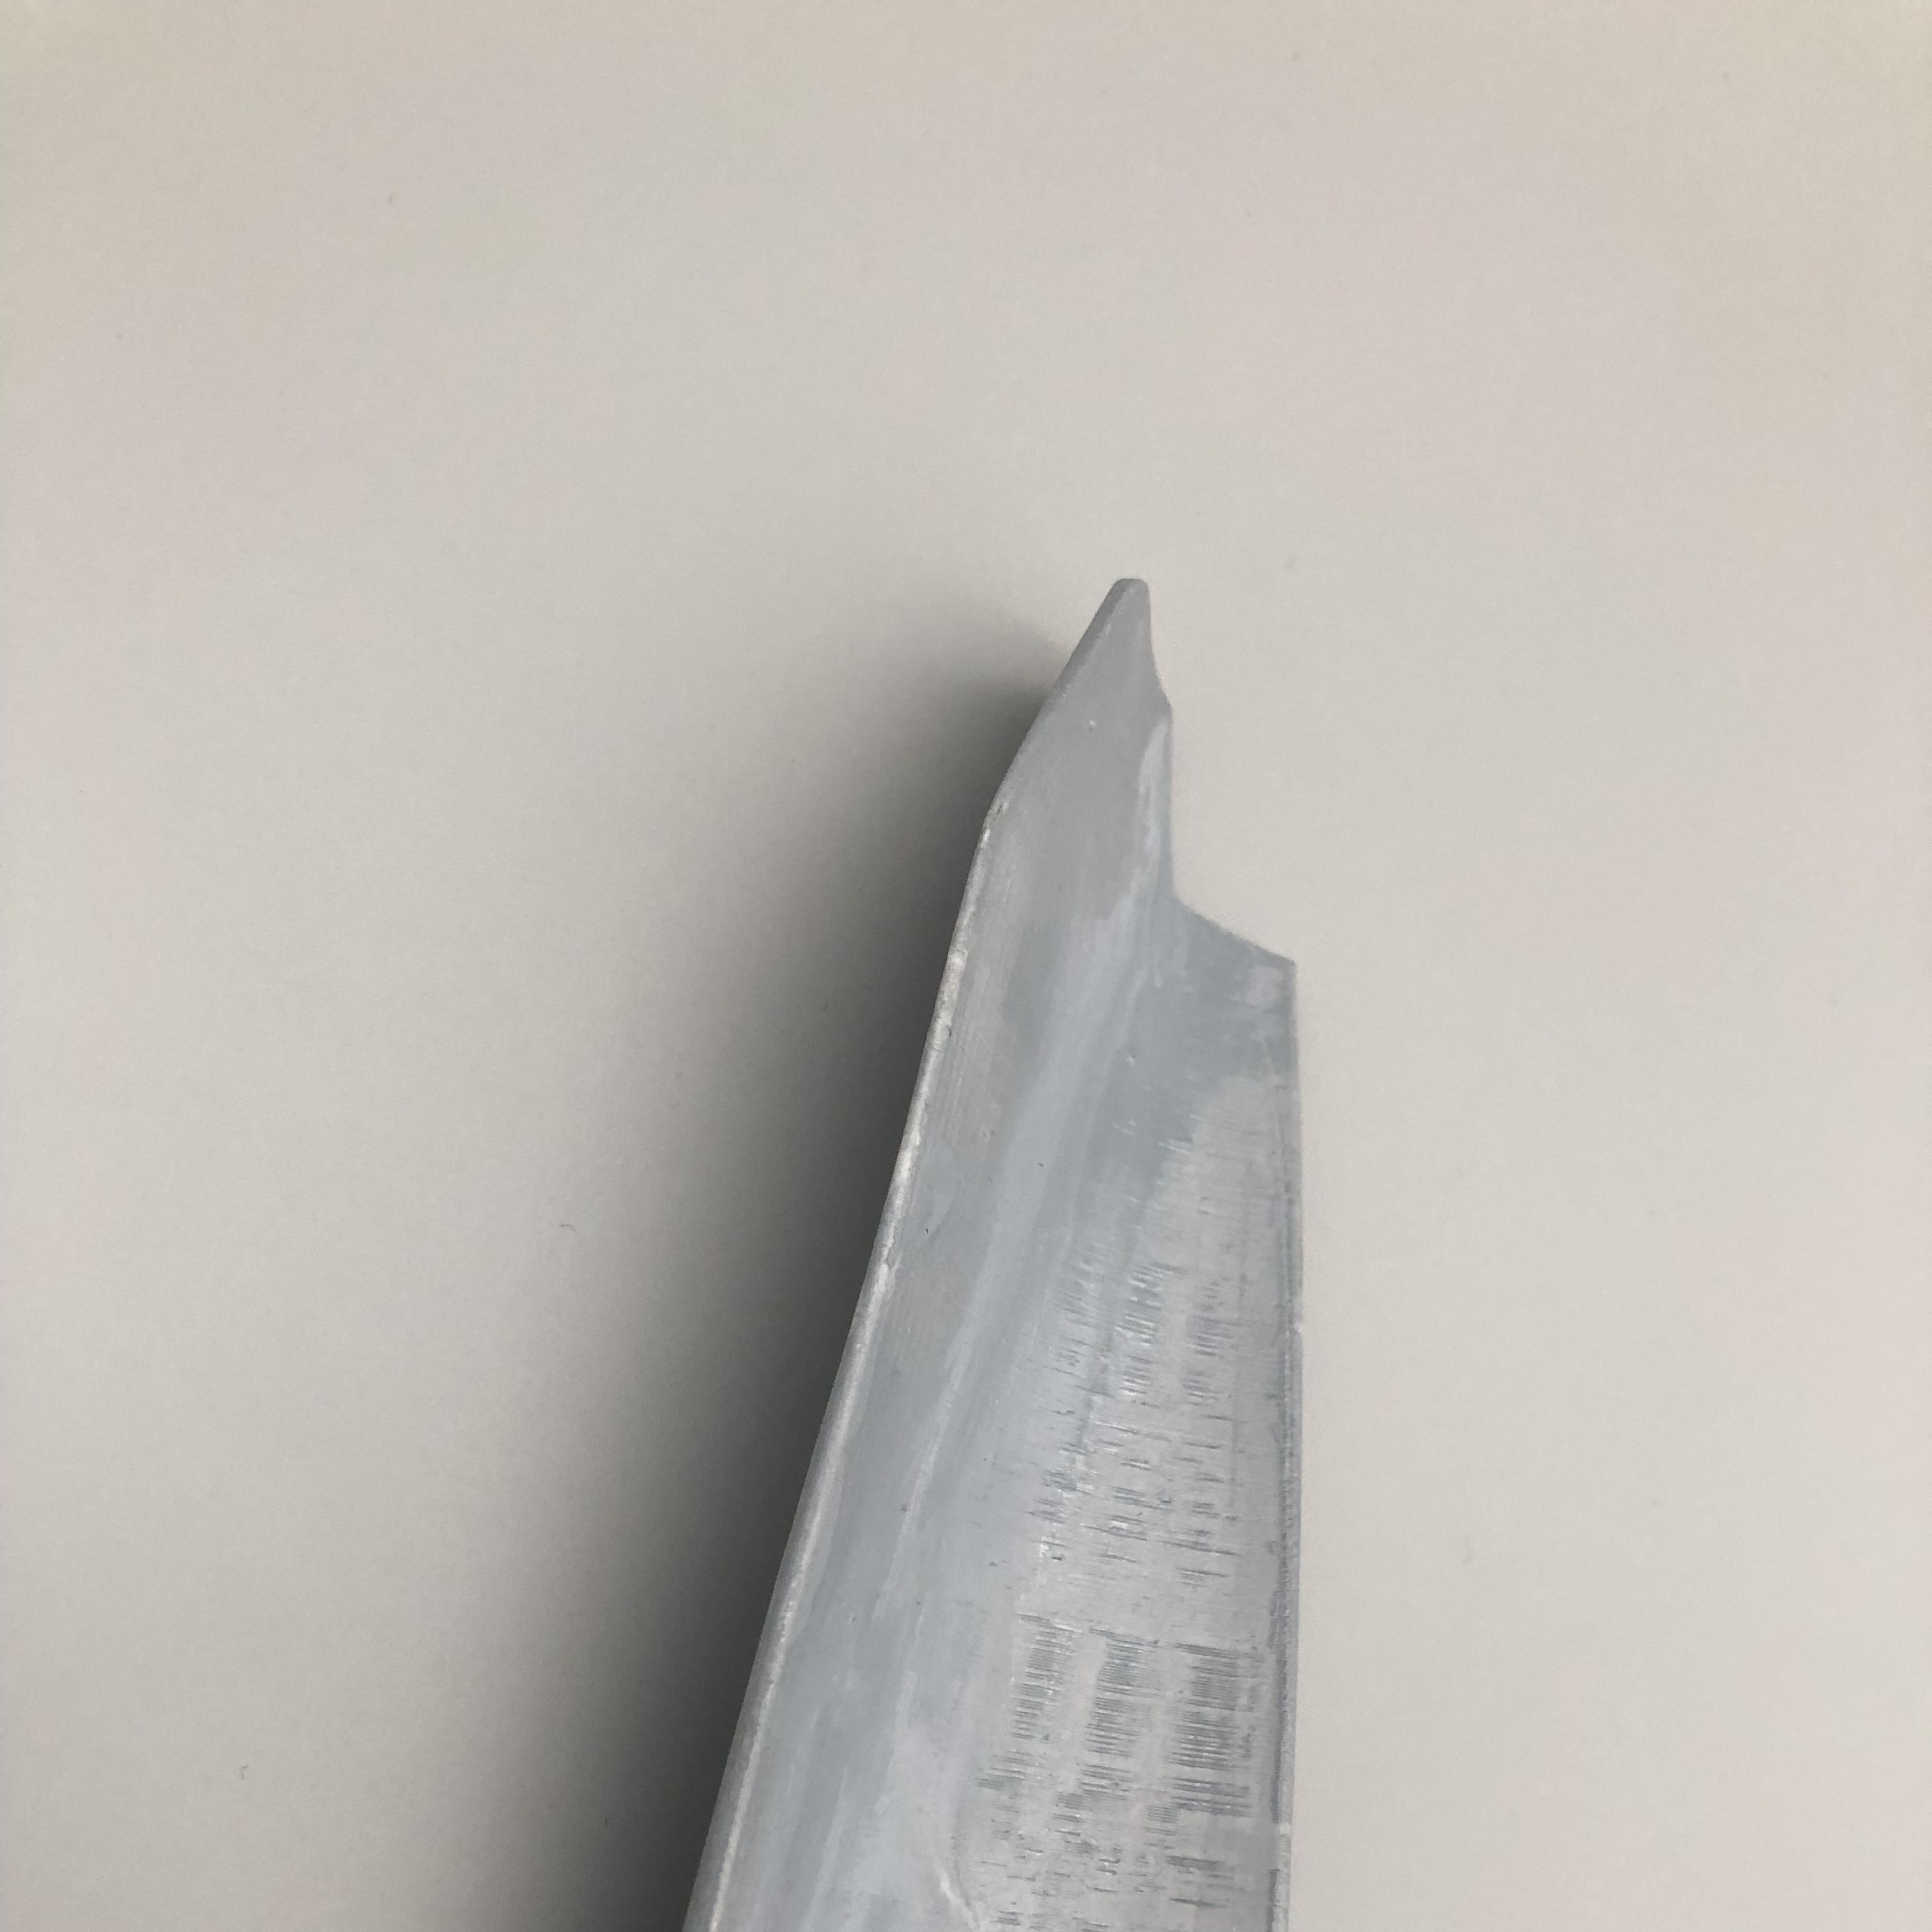fracture: (1125, 630, 1306, 957)
